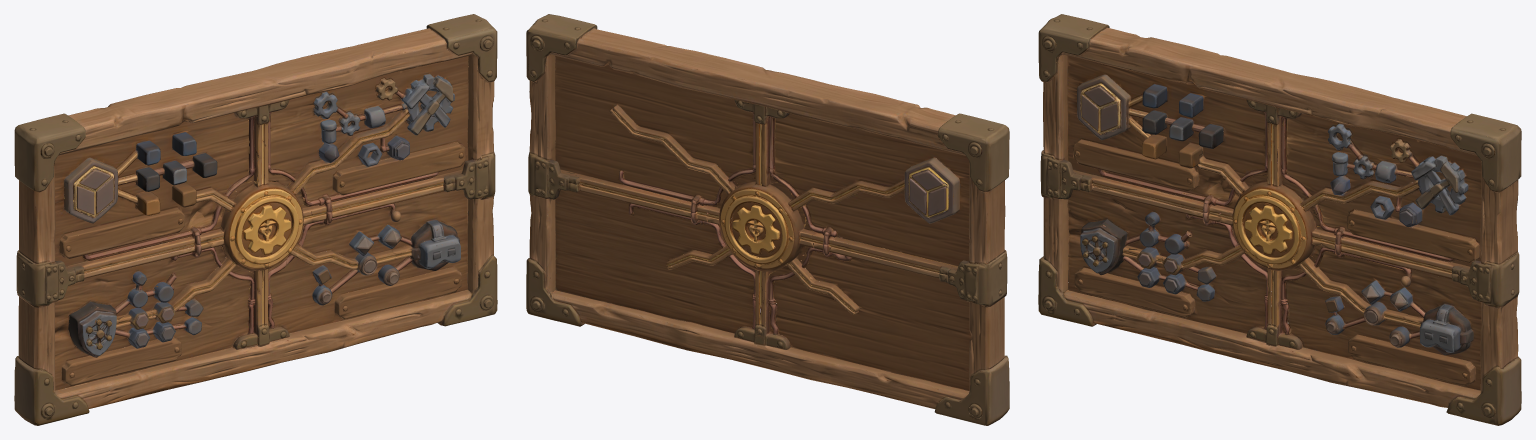
File: Skill_Tree_optimized.glb
The picture shows the model from 3 angles, left to right: view 1: azimuth 30°, elevation 25°; view 2: azimuth 150°, elevation 25°; view 3: azimuth 330°, elevation 25°; orthographic projection.
Parts seen in each view (by area): view 1: tripo_part_2, tripo_part_1, tripo_part_3, tripo_part_5, tripo_part_4, tripo_part_0, tripo_part_114, tripo_part_99, tripo_part_22, tripo_part_20, tripo_part_117, tripo_part_30 (+41 smaller); view 2: tripo_part_1, tripo_part_27, tripo_part_29, tripo_part_28, tripo_part_2, tripo_part_0, tripo_part_114, tripo_part_99, tripo_part_18, tripo_part_22, tripo_part_117, tripo_part_68 (+19 smaller); view 3: tripo_part_2, tripo_part_1, tripo_part_4, tripo_part_3, tripo_part_0, tripo_part_5, tripo_part_99, tripo_part_117, tripo_part_114, tripo_part_20, tripo_part_34, tripo_part_30 (+38 smaller).
Part boxes in pixels (left/top/right/bottom): tripo_part_2: left=58, top=28, right=473, bottom=155; tripo_part_1: left=19, top=113, right=249, bottom=266; tripo_part_3: left=270, top=56, right=468, bottom=201; tripo_part_5: left=269, top=189, right=467, bottom=333; tripo_part_4: left=55, top=251, right=250, bottom=390; tripo_part_0: left=55, top=290, right=471, bottom=408; tripo_part_114: left=14, top=176, right=493, bottom=425; tripo_part_99: left=132, top=116, right=497, bottom=326; tripo_part_22: left=14, top=113, right=85, bottom=192; tripo_part_20: left=234, top=195, right=299, bottom=264; tripo_part_117: left=313, top=14, right=497, bottom=128; tripo_part_30: left=207, top=141, right=314, bottom=296; tripo_part_1: left=771, top=113, right=1005, bottom=265; tripo_part_27: left=555, top=56, right=753, bottom=202; tripo_part_29: left=555, top=189, right=754, bottom=332; tripo_part_28: left=773, top=251, right=971, bottom=390; tripo_part_2: left=550, top=28, right=980, bottom=155; tripo_part_0: left=551, top=290, right=969, bottom=408; tripo_part_114: left=529, top=186, right=1009, bottom=425; tripo_part_99: left=526, top=116, right=778, bottom=326; tripo_part_18: left=705, top=177, right=815, bottom=308; tripo_part_22: left=938, top=113, right=1009, bottom=191; tripo_part_117: left=526, top=14, right=982, bottom=418; tripo_part_68: left=939, top=250, right=1007, bottom=307; tripo_part_2: left=1062, top=27, right=1476, bottom=155; tripo_part_1: left=1043, top=51, right=1274, bottom=201; tripo_part_4: left=1067, top=189, right=1266, bottom=333; tripo_part_3: left=1284, top=113, right=1481, bottom=266; tripo_part_0: left=1063, top=290, right=1480, bottom=407; tripo_part_5: left=1285, top=251, right=1481, bottom=390; tripo_part_99: left=1145, top=112, right=1521, bottom=425; tripo_part_117: left=1068, top=113, right=1521, bottom=292; tripo_part_114: left=1038, top=83, right=1518, bottom=393; tripo_part_20: left=1236, top=195, right=1301, bottom=264; tripo_part_34: left=1347, top=210, right=1479, bottom=263; tripo_part_30: left=1217, top=141, right=1323, bottom=294.
Size of the model in its own units: 0.979 by 0.5818 by 0.1087.
Materials: 109 (109 with a texture image).
